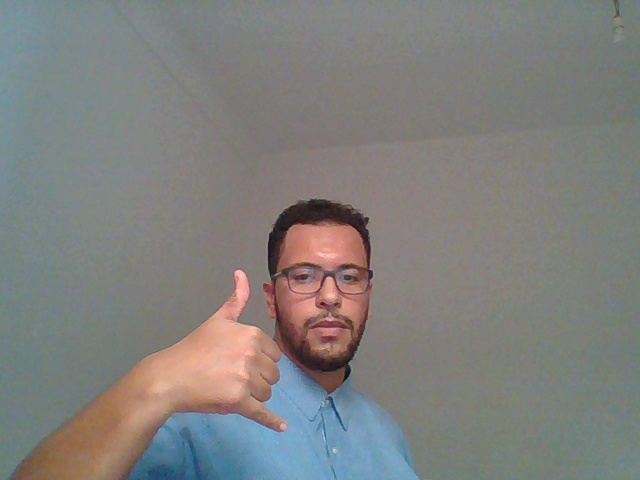callme: (112, 223, 291, 460)
